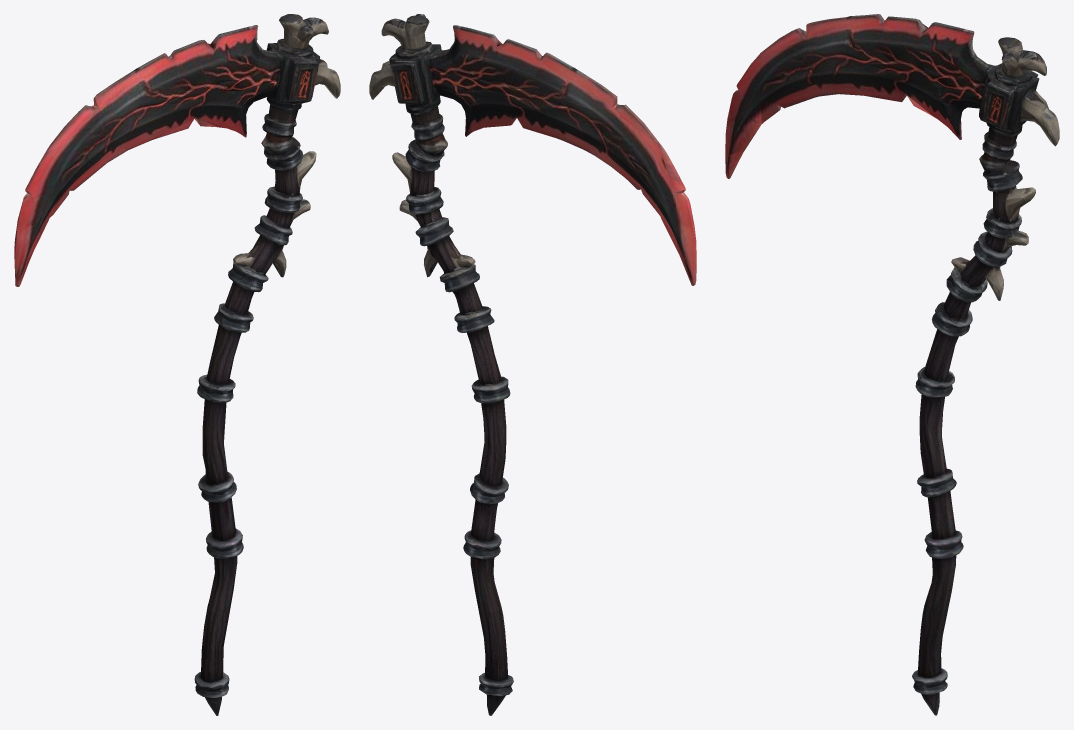
The model's file is w_boss_scythe.glb.
The picture shows the model from 3 angles, left to right: view 1: azimuth 30°, elevation 25°; view 2: azimuth 150°, elevation 25°; view 3: azimuth 330°, elevation 25°; orthographic projection. The views are drawn at different scales.
Parts seen in each view (by area): view 1: w_boss_scythe; view 2: w_boss_scythe; view 3: w_boss_scythe.
Part boxes in pixels (x1,y1,x2,y2): w_boss_scythe: (14, 14, 340, 715); w_boss_scythe: (369, 14, 696, 715); w_boss_scythe: (725, 14, 1059, 715).
Size of the model in its own units: 1.5 by 3 by 0.2285.
1 material, 1 textured.
